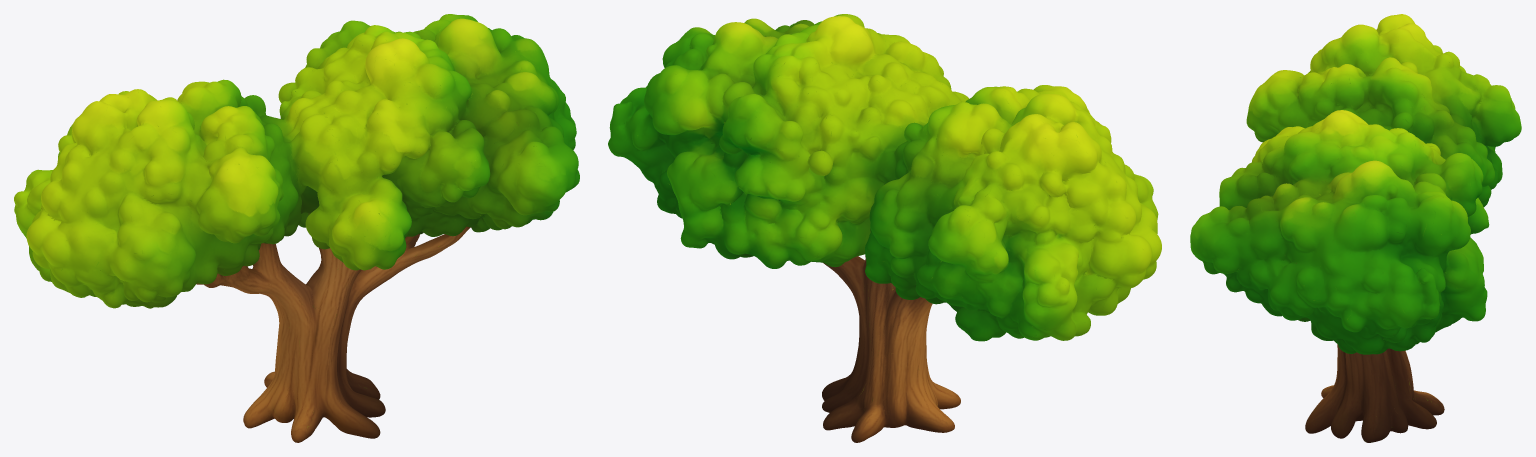
File: mystical-x-tree-vi.glb
3 views of the same model, side by side, from view 1: azimuth 30°, elevation 25°; view 2: azimuth 150°, elevation 25°; view 3: azimuth 270°, elevation 25° (orthographic). The views are drawn at different scales.
Visible parts, largest first — view 1: world_0; view 2: world_0; view 3: world_0.
Boxes of the visible parts, bbox=[...] form: world_0: bbox=[14, 14, 579, 442]; world_0: bbox=[608, 14, 1161, 442]; world_0: bbox=[1190, 14, 1521, 442].
Bounding box in the file's own units: 1 × 0.6708 × 0.5967.
Materials: 1 (1 with a texture image).
